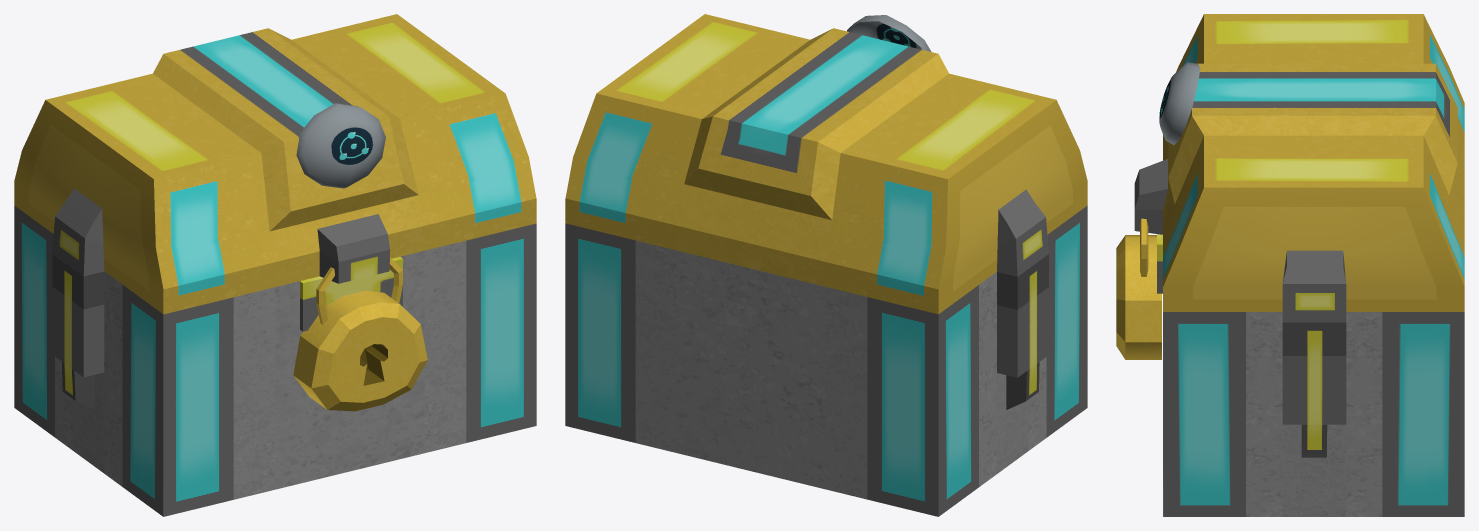
Rendered from Chest.fbx.
The picture shows the model from 3 angles, left to right: view 1: azimuth 30°, elevation 25°; view 2: azimuth 150°, elevation 25°; view 3: azimuth 270°, elevation 25°; orthographic projection.
Visible parts, largest first — view 1: pCylinder13, pCube7, pCube5; view 2: pCylinder13, pCube7; view 3: pCylinder13, pCube7, pCube5.
Boxes of the visible parts, x1,y1,x2,y2 form: pCylinder13: (14, 14, 536, 314); pCube7: (14, 205, 536, 516); pCube5: (293, 257, 427, 411); pCylinder13: (565, 14, 1087, 314); pCube7: (565, 205, 1087, 516); pCylinder13: (1134, 14, 1464, 322); pCube7: (1157, 234, 1464, 516); pCube5: (1116, 218, 1161, 359).
Bounding box in the file's own units: 1.61 × 1.32 × 1.15.
